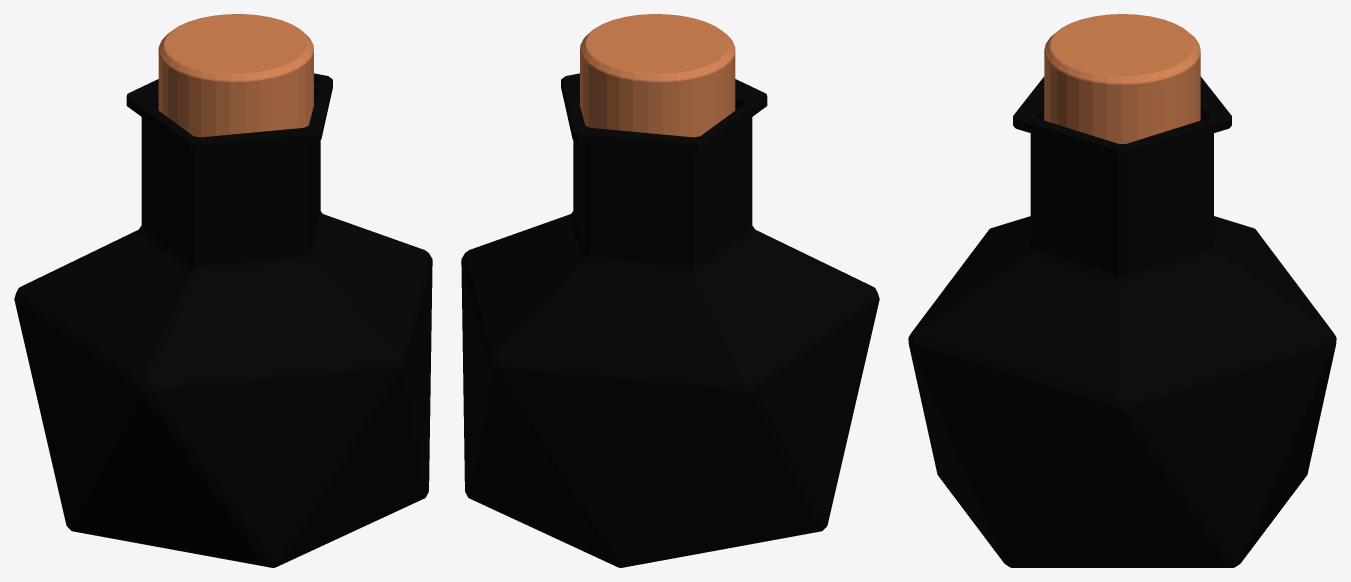
Rendered from bottle.fbx.
The picture shows the model from 3 angles, left to right: view 1: azimuth 30°, elevation 25°; view 2: azimuth 150°, elevation 25°; view 3: azimuth 270°, elevation 25°; orthographic projection. The views are drawn at different scales.
Parts seen in each view (by area): view 1: Icosphere; view 2: Icosphere; view 3: Icosphere.
Boxes of the visible parts, x1,y1,x2,y2 form: Icosphere: (14,14,432,567); Icosphere: (461,14,879,567); Icosphere: (908,14,1336,567).
Size of the model in its own units: 17 by 20 by 17.
